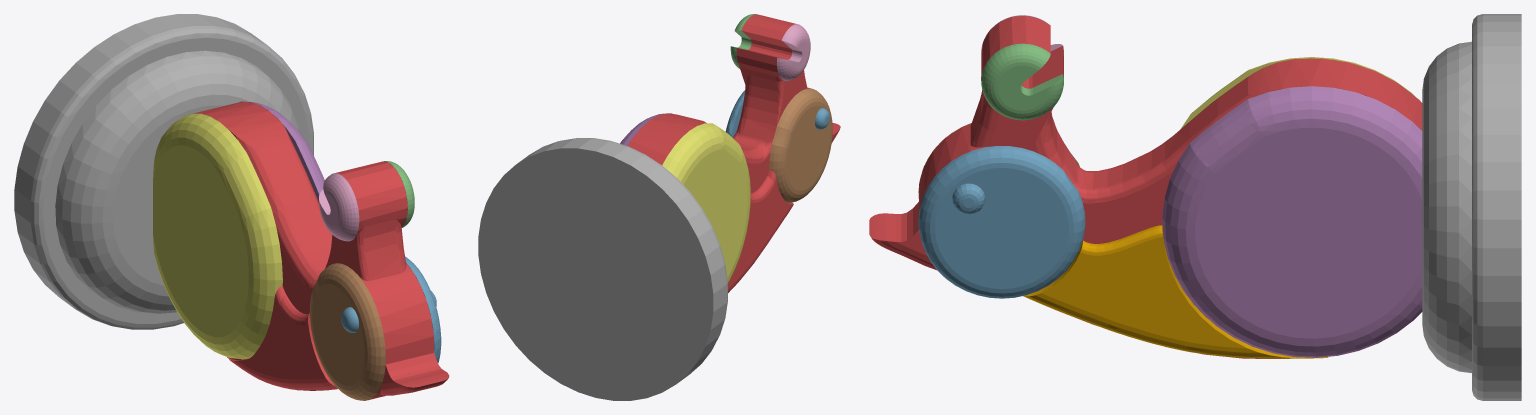
The picture shows the model from 3 angles, left to right: view 1: azimuth 30°, elevation 25°; view 2: azimuth 150°, elevation 25°; view 3: azimuth 270°, elevation 25°; orthographic projection. The views are drawn at different scales.
Visible parts, largest first — view 1: g8, g5, g0, g6, g9, g7, g3, g1, g2; view 2: g8, g0, g5, g6, g9, g7, g2, g1; view 3: g3, g8, g0, g1, g4, g2, g5.
Boxes of the visible parts, bbox=[...] form: g8: bbox=[14, 14, 313, 329]; g5: bbox=[153, 113, 282, 359]; g0: bbox=[193, 101, 449, 399]; g6: bbox=[309, 263, 385, 400]; g9: bbox=[228, 286, 337, 390]; g7: bbox=[319, 173, 359, 241]; g3: bbox=[239, 101, 324, 202]; g1: bbox=[405, 256, 441, 362]; g2: bbox=[384, 161, 414, 227]; g8: bbox=[478, 138, 727, 400]; g0: bbox=[627, 14, 840, 193]; g5: bbox=[662, 123, 750, 283]; g6: bbox=[769, 88, 832, 203]; g9: bbox=[728, 170, 793, 292]; g7: bbox=[777, 24, 810, 80]; g2: bbox=[730, 14, 757, 68]; g1: bbox=[725, 90, 744, 137]; g3: bbox=[1162, 86, 1422, 357]; g8: bbox=[1422, 14, 1521, 400]; g0: bbox=[869, 15, 1422, 358]; g1: bbox=[918, 146, 1085, 298]; g4: bbox=[1023, 225, 1328, 358]; g2: bbox=[981, 43, 1063, 120]; g5: bbox=[1181, 57, 1414, 128].
Size of the model in its own units: 1.12 by 1.14 by 1.9.
